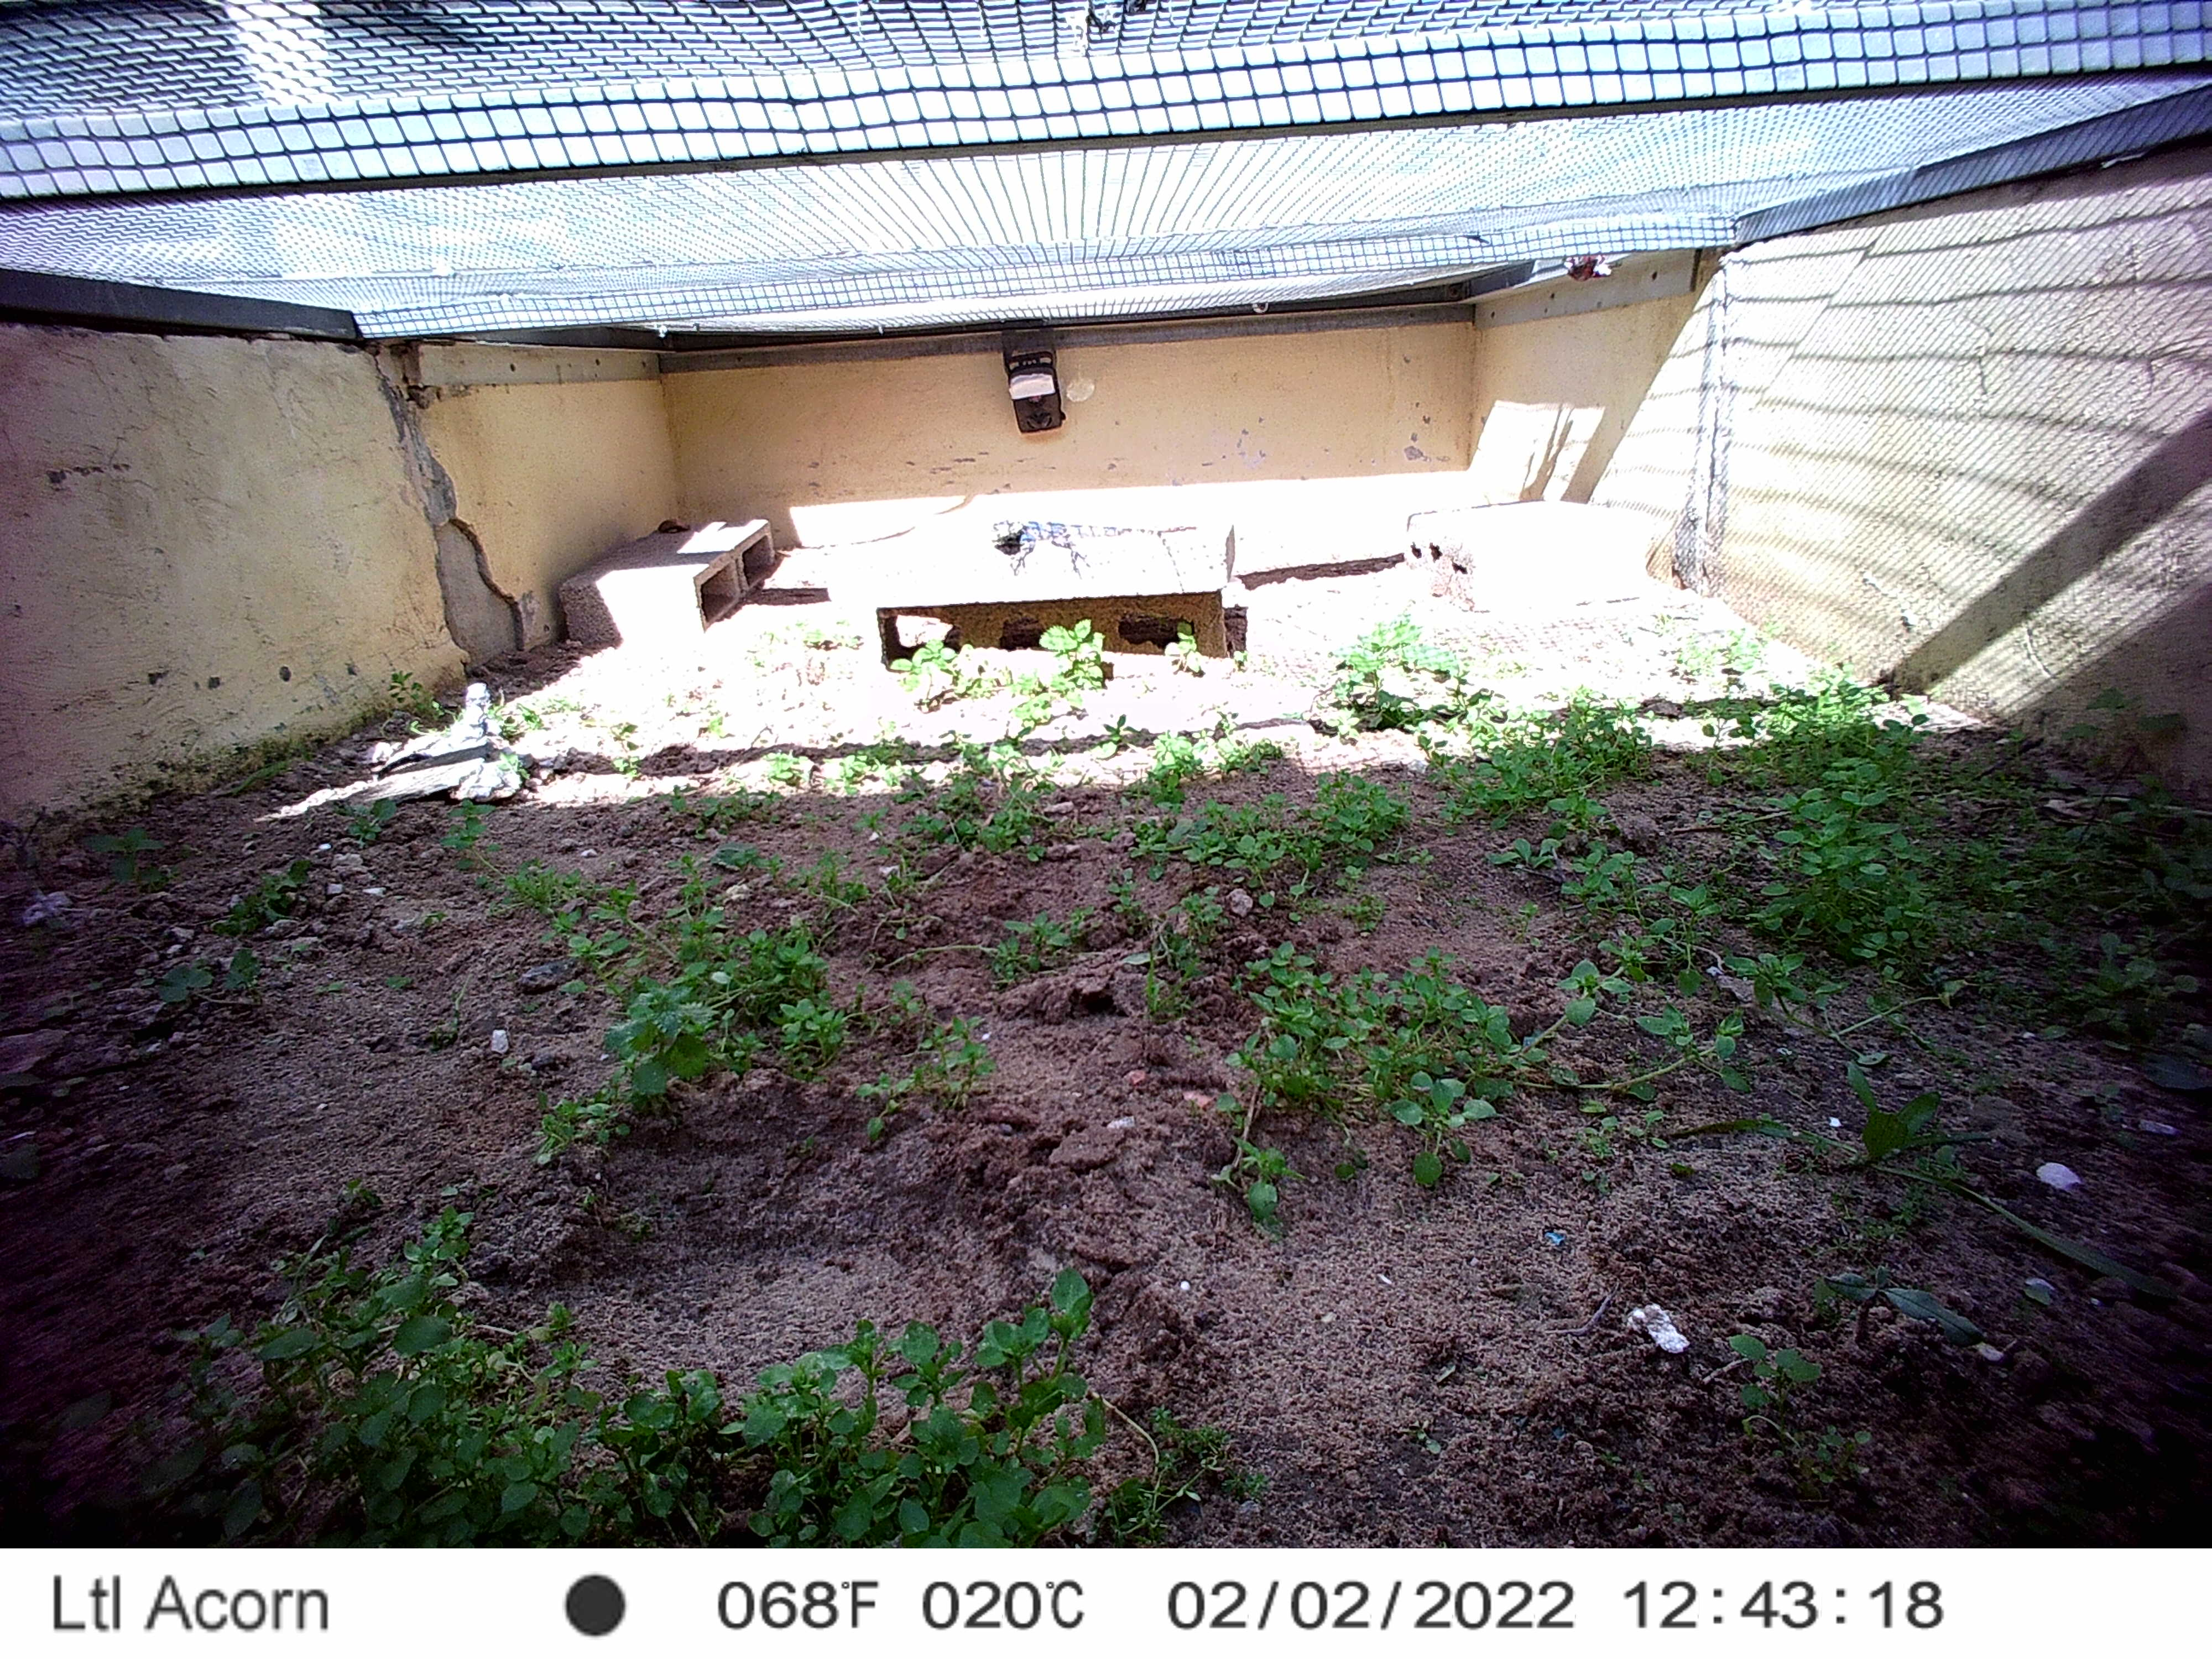lizard: (989, 509, 1211, 577), (374, 680, 502, 775), (1557, 251, 1623, 282)
